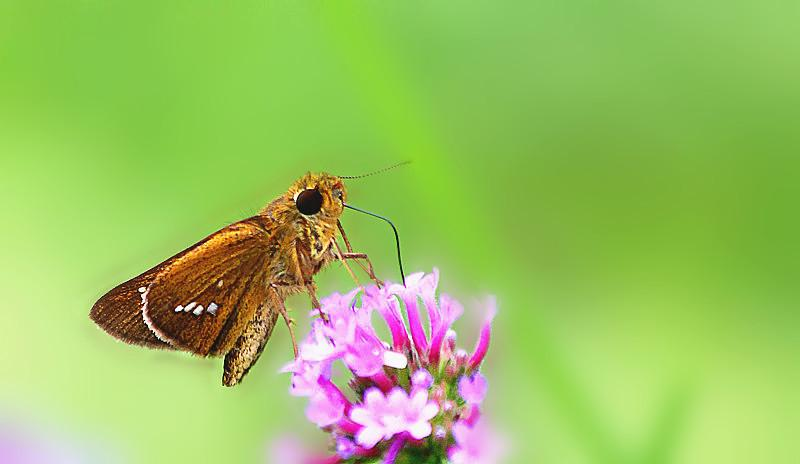Hesperiidae: (85, 150, 431, 383)
